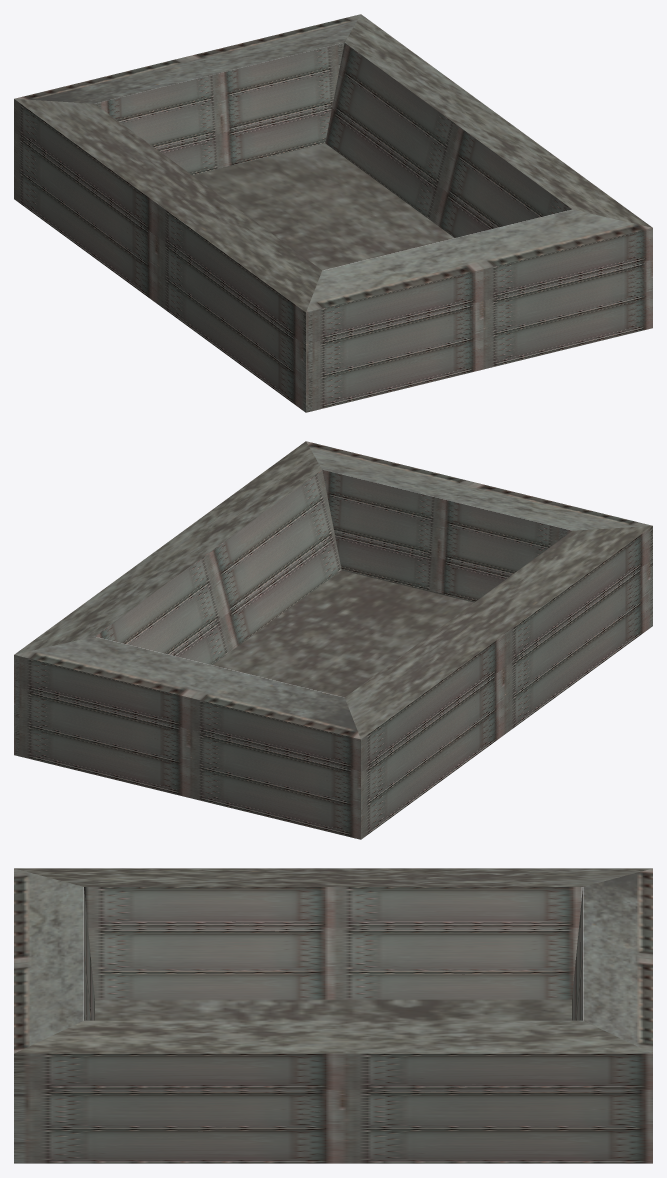
The model's file is TerrainContainerb.obj.
3 renders of one model, top to bottom at view 1: azimuth 30°, elevation 25°; view 2: azimuth 150°, elevation 25°; view 3: azimuth 270°, elevation 25°, orthographic. The views are drawn at different scales.
Parts seen in each view (by area): view 1: Cube; view 2: Cube; view 3: Cube.
Part boxes in pixels (x1,y1,x2,y2): Cube: (14,14,652,412); Cube: (14,441,652,839); Cube: (14,868,652,1163).
Bounding box in the file's own units: 181 × 53.36 × 264.
